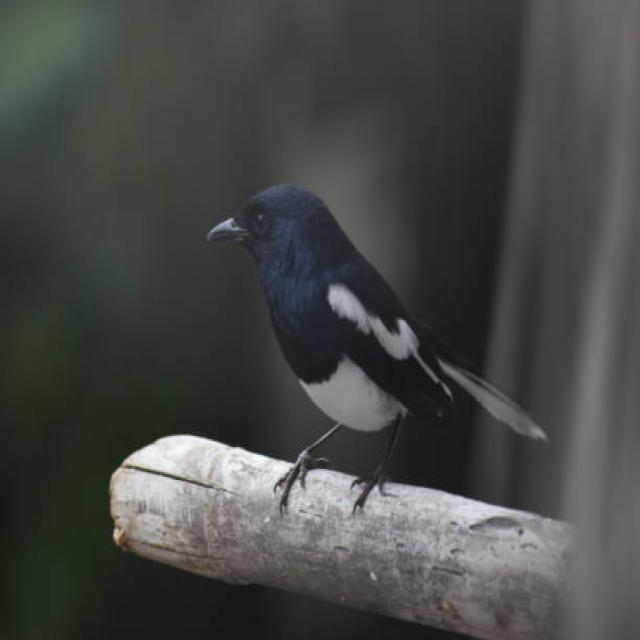Magpie: (205, 182, 551, 520)
